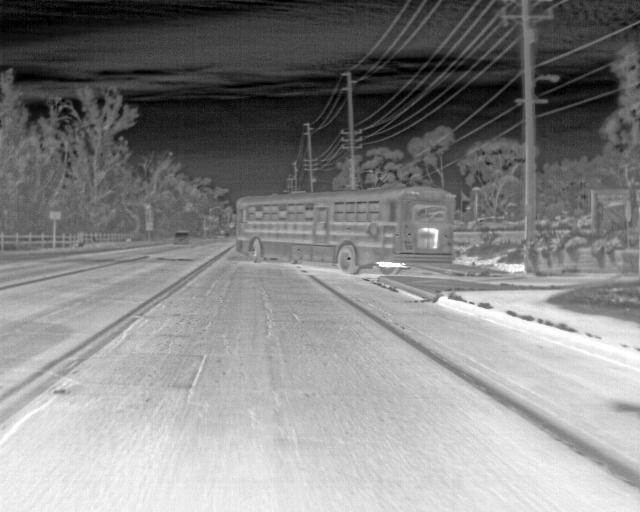car: (172, 228, 190, 244)
